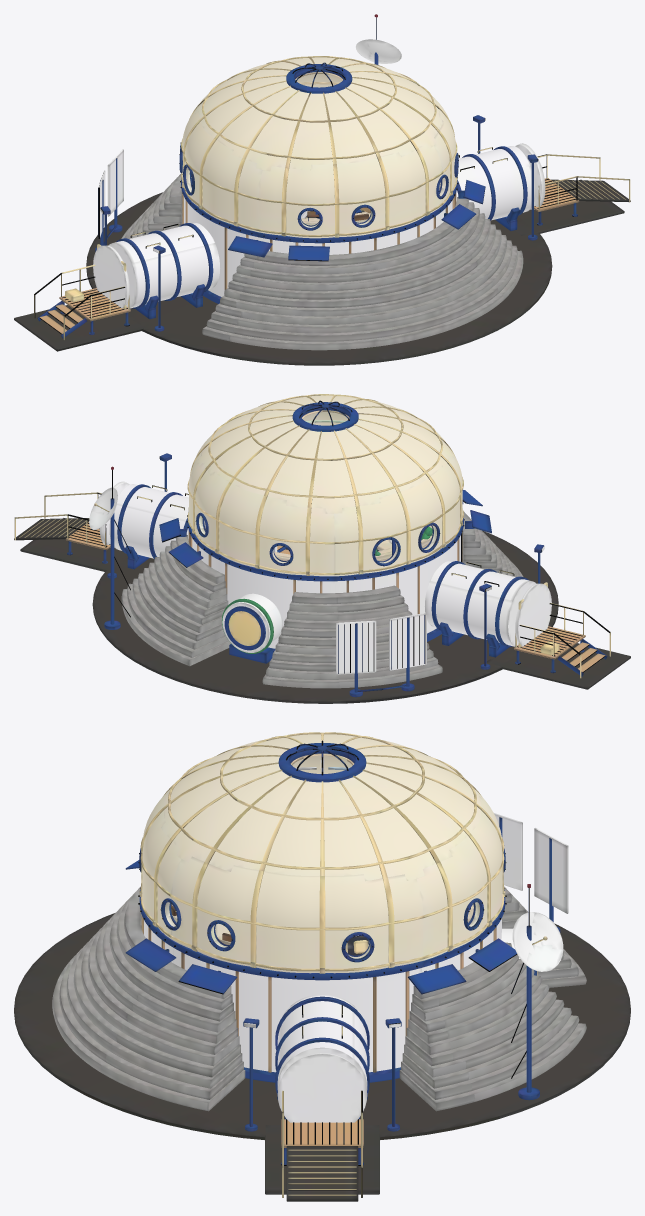
The model's file is crew_wellness_dome.glb.
3 views of the same model, one above another, from view 1: azimuth 30°, elevation 25°; view 2: azimuth 150°, elevation 25°; view 3: azimuth 270°, elevation 25° (orthographic). The views are drawn at different scales.
Visible parts, largest first — view 1: CrewWellnessDome_RICH_BAKED; view 2: CrewWellnessDome_RICH_BAKED; view 3: CrewWellnessDome_RICH_BAKED.
Boxes of the visible parts, bbox=[...] form: CrewWellnessDome_RICH_BAKED: bbox=[14, 14, 630, 365]; CrewWellnessDome_RICH_BAKED: bbox=[14, 394, 630, 703]; CrewWellnessDome_RICH_BAKED: bbox=[14, 732, 630, 1201].
Size of the model in its own units: 24.82 by 8.13 by 17.2.
Materials: 1 (1 with a texture image).
